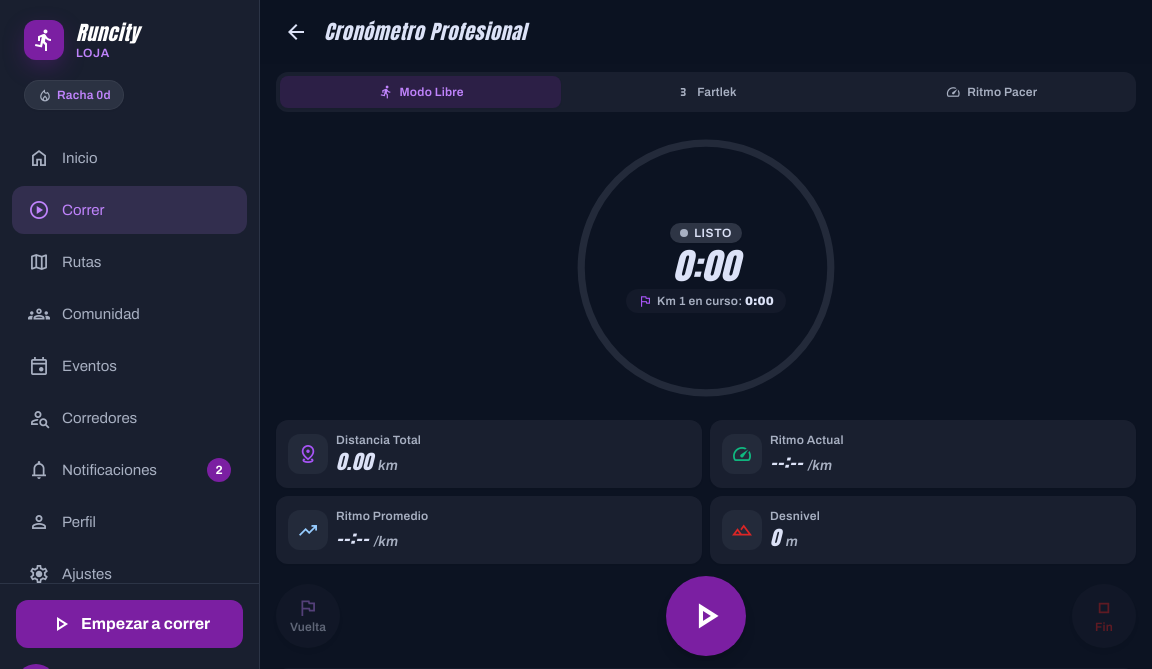
Test: cronometro › inicia la carrera, marca vueltas y termina en el resumen
The width and height of the screenshot is (1152, 669).
Expected: the text "Listo" is shown, [694,225,732,241]
Expected: the button "Vuelta" is disabled, [276,584,340,648]
Click the button named "Iniciar" at (706, 616), box [666,576,746,656]
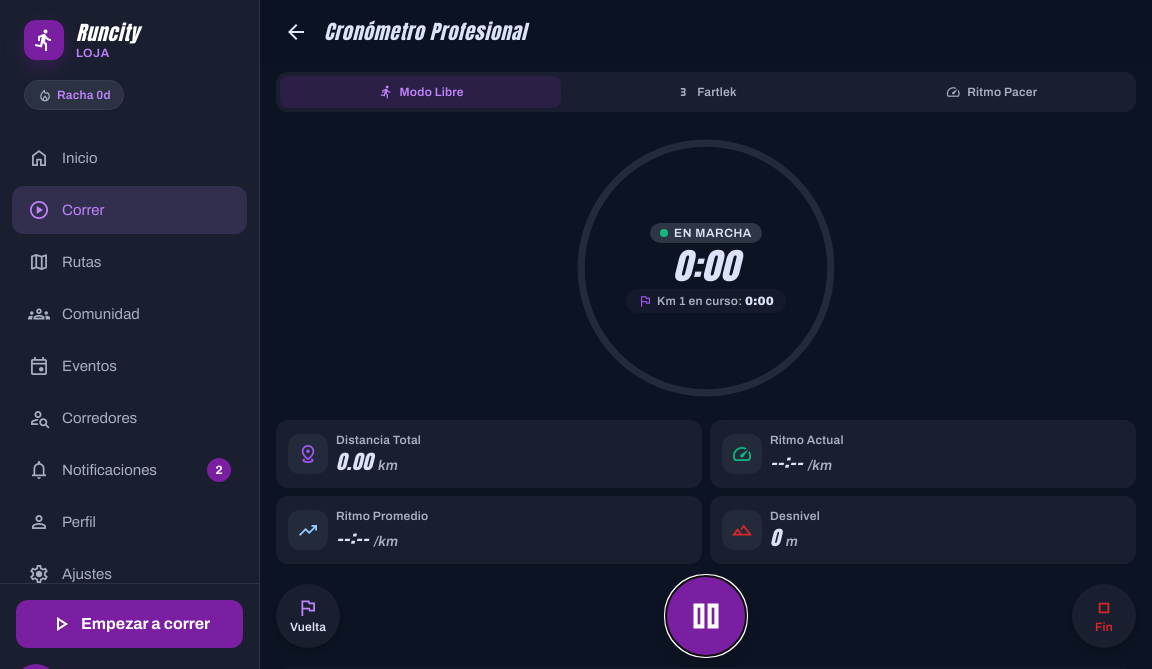
Expected: the text "En marcha" is shown, [674,225,752,241]
Click the button "Vuelta" at (308, 616), box [276,584,340,648]
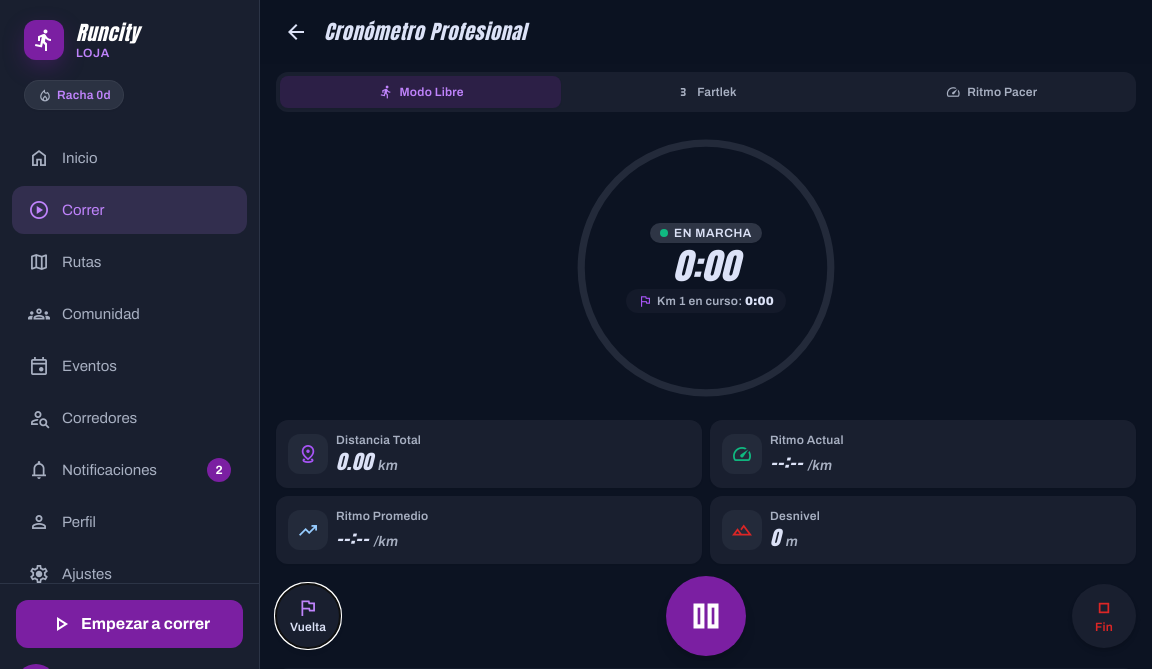
Click the button named "Pausar" at (706, 616), box [666,576,746,656]
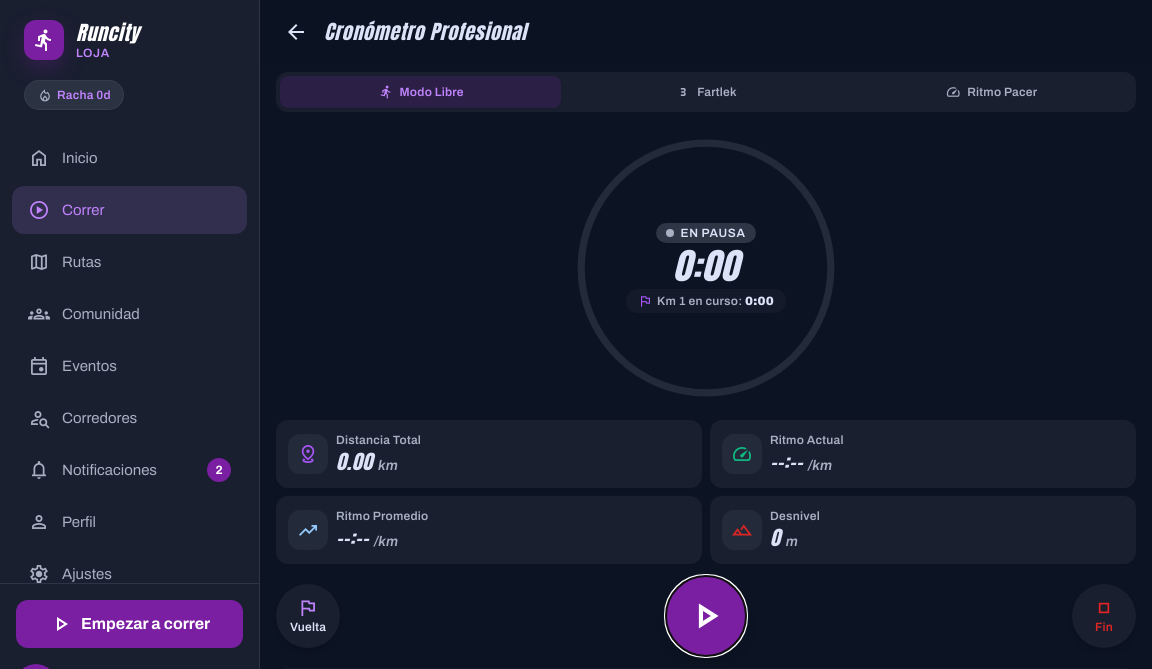
Expected: the text "En pausa" is shown, [680,225,746,241]
Click the button "Fin" at (1104, 616), box [1072,584,1136,648]
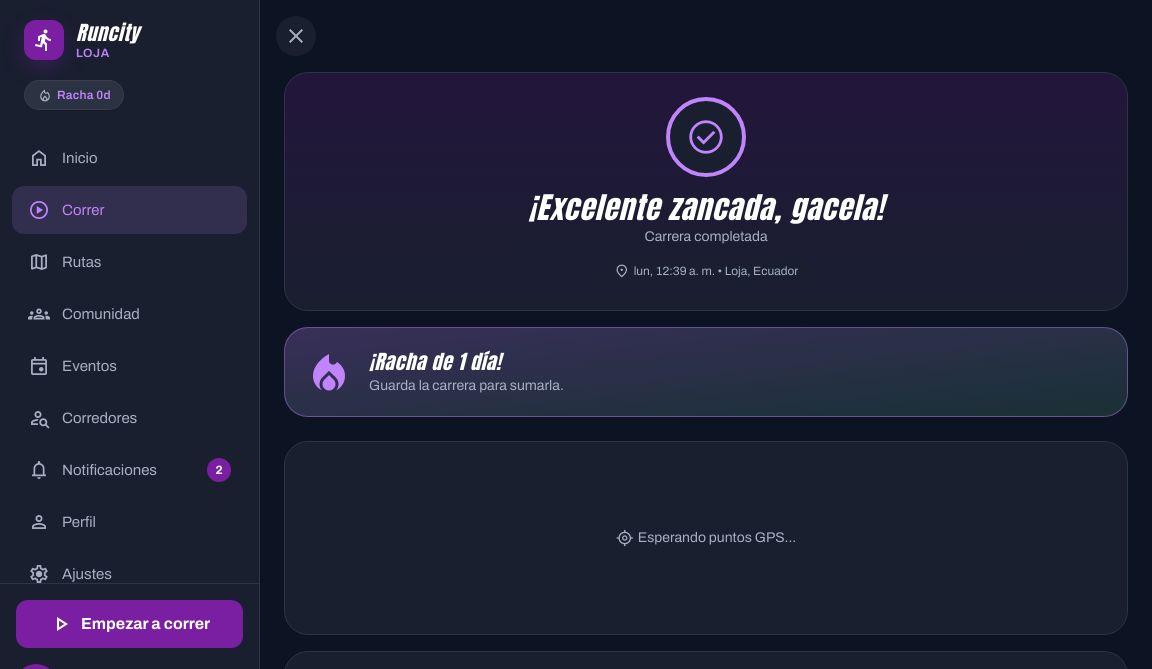
Expected: the text "Carrera completada" is shown, [644,229,768,244]
